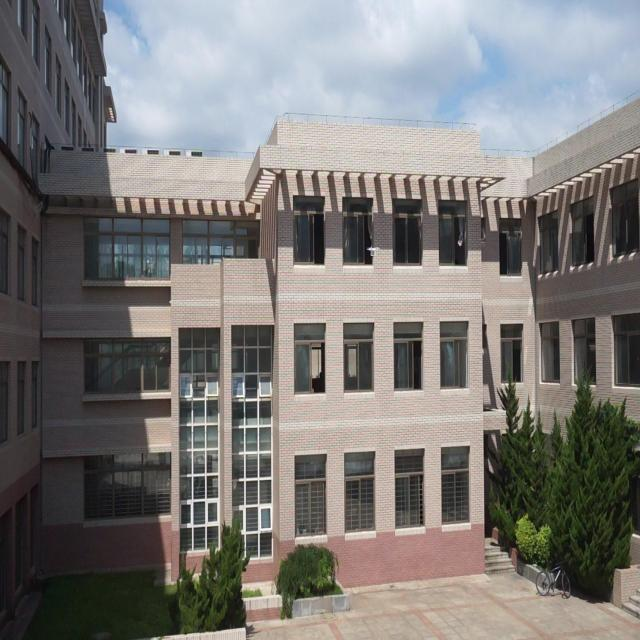drone: (365, 245, 380, 261)
